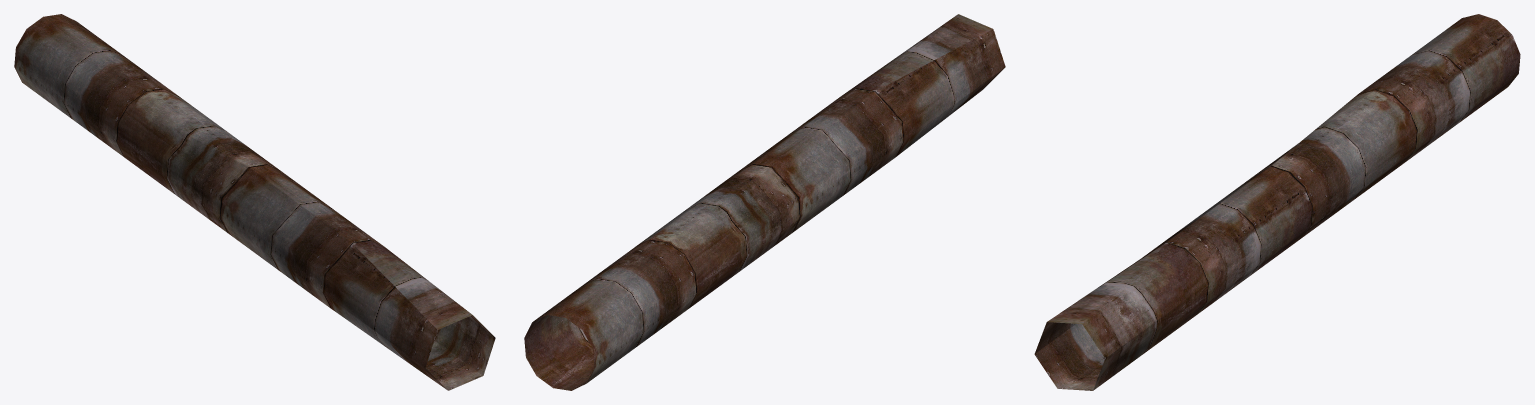
The model's file is truba 2.FBX.
The picture shows the model from 3 angles, left to right: view 1: azimuth 30°, elevation 25°; view 2: azimuth 150°, elevation 25°; view 3: azimuth 330°, elevation 25°; orthographic projection.
Visible parts, largest first — view 1: 10m05; view 2: 10m05; view 3: 10m05.
Part boxes in pixels (x1,y1,x2,y2): 10m05: (14,14,495,390); 10m05: (524,14,1005,390); 10m05: (1034,14,1520,390).
Bounding box in the file's own units: 98.48 × 98.48 × 1000.
